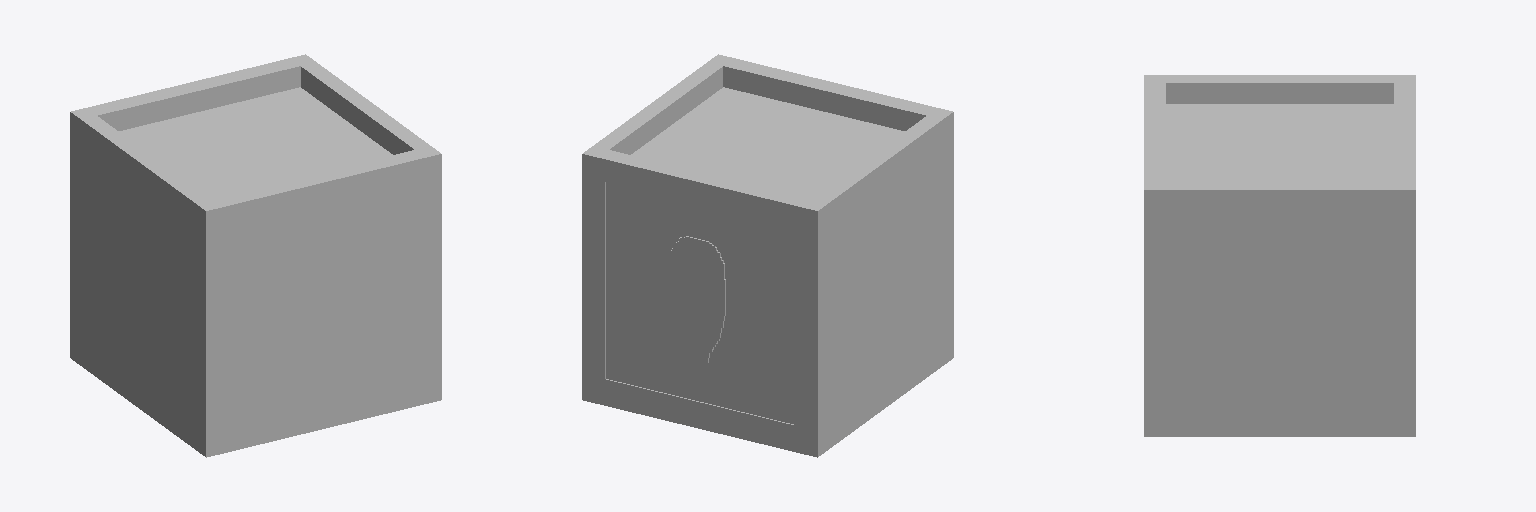
File: AlmacenLechuga.obj
3 renders of one model, left to right at view 1: azimuth 30°, elevation 25°; view 2: azimuth 150°, elevation 25°; view 3: azimuth 270°, elevation 25°, orthographic.
Parts seen in each view (by area): view 1: object 1; view 2: object 1; view 3: object 1.
Boxes of the visible parts, x1,y1,x2,y2 form: object 1: [70, 54, 441, 457]; object 1: [582, 54, 953, 457]; object 1: [1144, 75, 1415, 436].
Size of the model in its own units: 17.6 by 17.6 by 17.6.